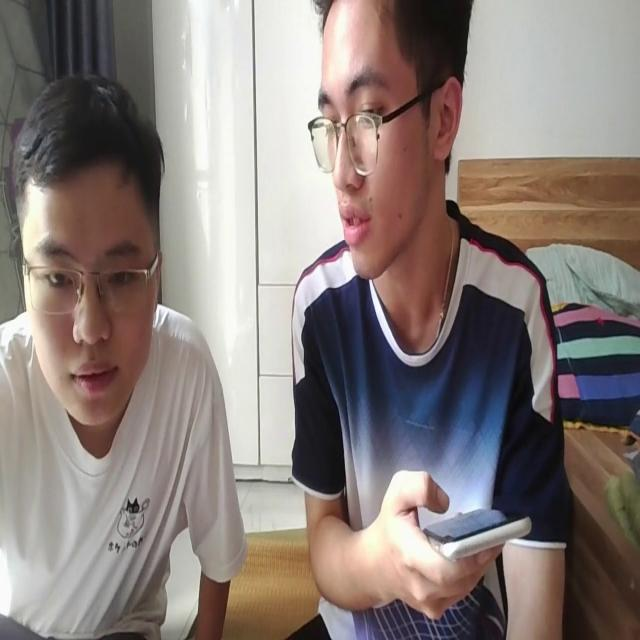extra_person: (0, 68, 246, 640)
phone: (416, 494, 534, 568)
student: (286, 0, 577, 640)
